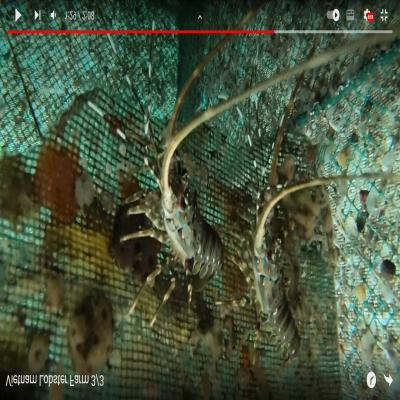lobster: (155, 157, 222, 280), (258, 184, 297, 359)
